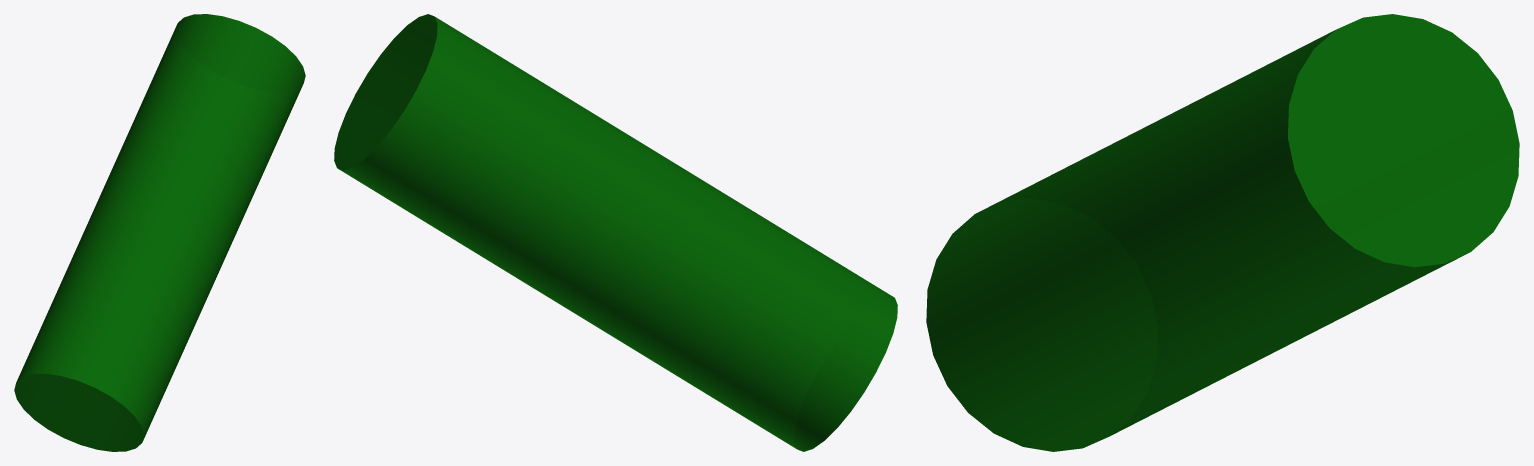
File: Event_105588474_jet_3.fbx
3 views of the same model, side by side, from view 1: azimuth 30°, elevation 25°; view 2: azimuth 150°, elevation 25°; view 3: azimuth 270°, elevation 25° (orthographic). The views are drawn at different scales.
Visible parts, largest first — view 1: Model; view 2: Model; view 3: Model.
Part boxes in pixels (<box>): Model: <box>14,14,305,451</box>; Model: <box>334,14,897,451</box>; Model: <box>926,14,1519,451</box>.
Size of the model in its own units: 0.1144 by 0.1039 by 0.0912.
